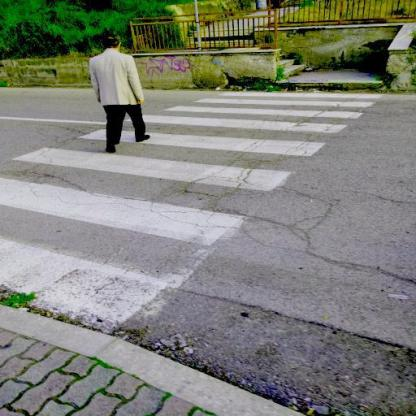crosswalk: (1, 175, 250, 351), (66, 113, 363, 159)
